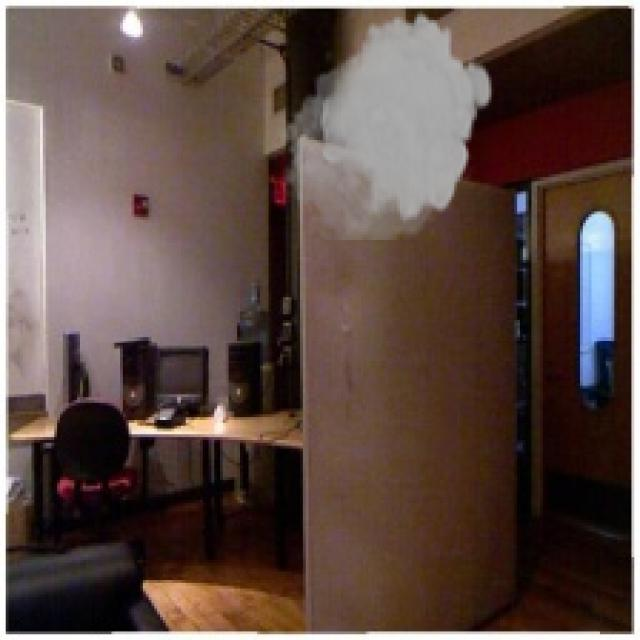smoke: (274, 9, 494, 240)
